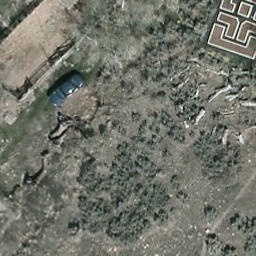car: (48, 74, 86, 108)
